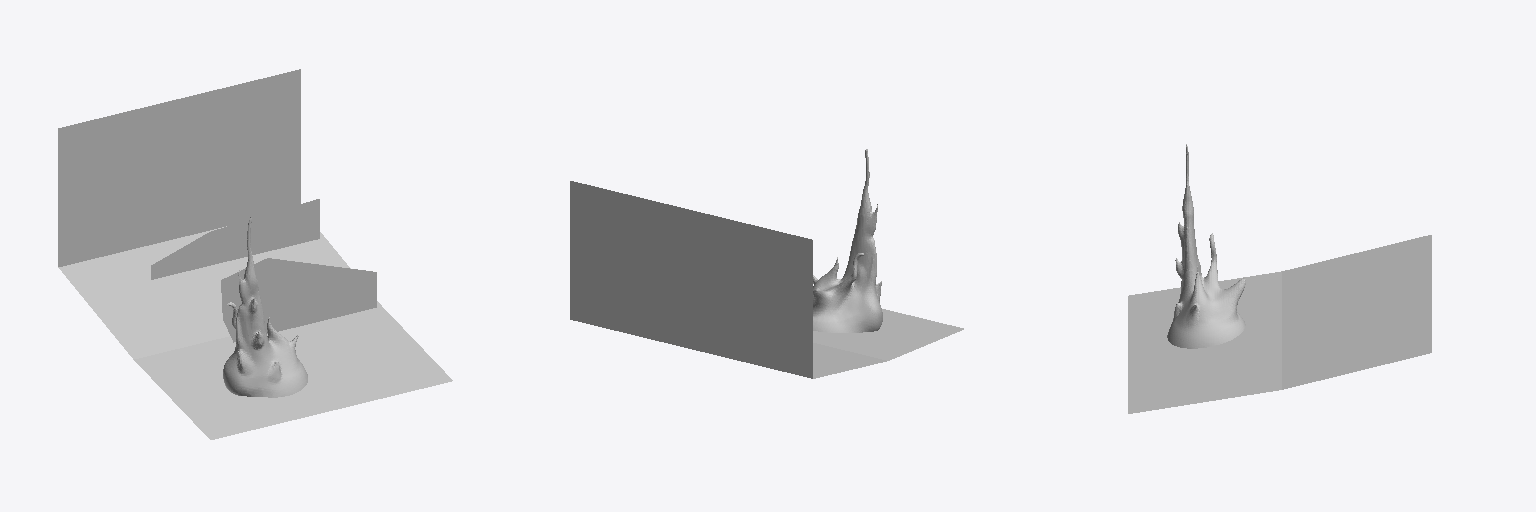
Rendered from Van Gogh Starry Night-bl.obj.
3 views of the same model, side by side, from view 1: azimuth 30°, elevation 25°; view 2: azimuth 150°, elevation 25°; view 3: azimuth 270°, elevation 25° (orthographic).
Visible parts, largest first — view 1: Plane, Sphere; view 2: Plane, Sphere; view 3: Plane, Sphere.
Part boxes in pixels (x1,y1,x2,y2): Plane: (58,69,452,439); Sphere: (223,217,307,397); Plane: (570,181,963,378); Sphere: (813,149,882,332); Plane: (1128,235,1431,413); Sphere: (1167,144,1245,348).
Bounding box in the file's own units: 4.24 × 3.39 × 4.61.